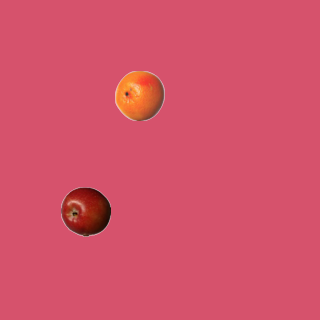Apple Braeburn: (60, 186, 110, 236)
Grapefruit Pink: (114, 70, 164, 120)
